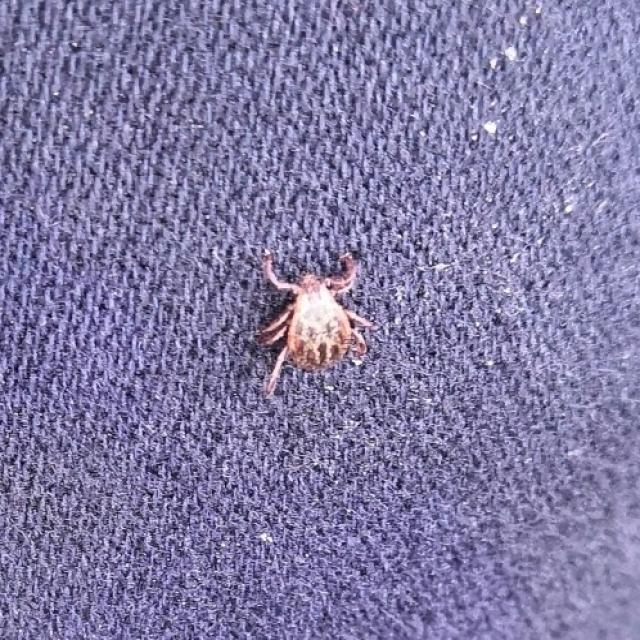Dermacentor Reticulatus-M: (253, 254, 373, 399)
